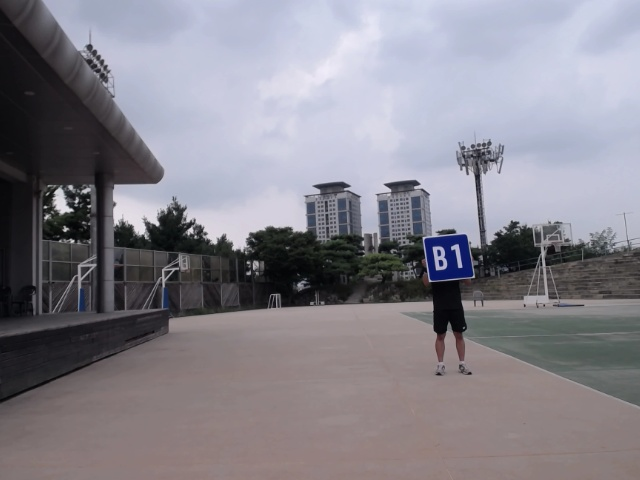delivery_b1: (423, 233, 474, 281)
